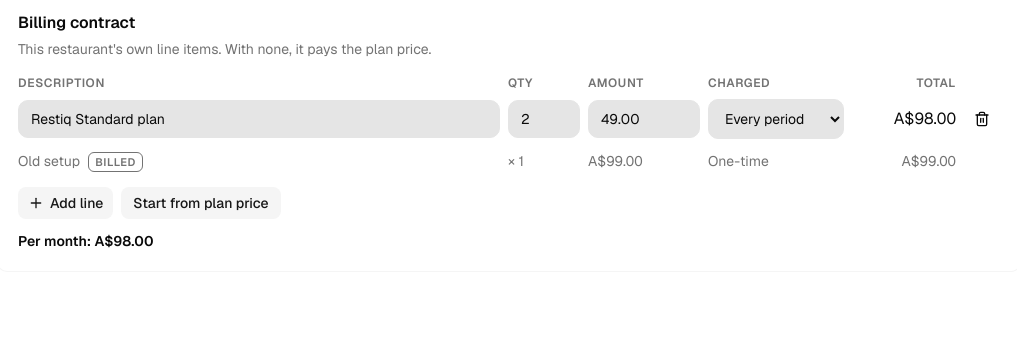
ContractCard › shows stripe_sync_failed inline and keeps Save available to retry
Check: the element with test id "contract-row-0" is shown, box [18, 99, 1000, 139]
Step 1. Click the button with test id "contract-remove-0" → [982, 119], box [964, 101, 1000, 137]
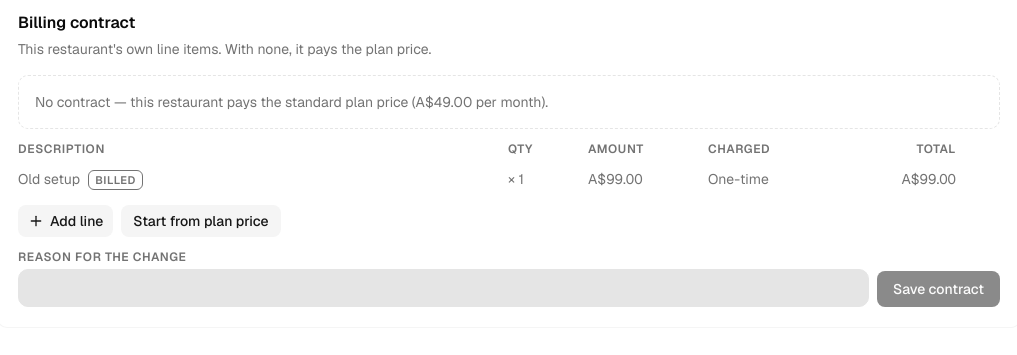
Step 2. Type "Back to plan" into the field with test id "contract-reason" → [443, 288], box [18, 269, 869, 307]
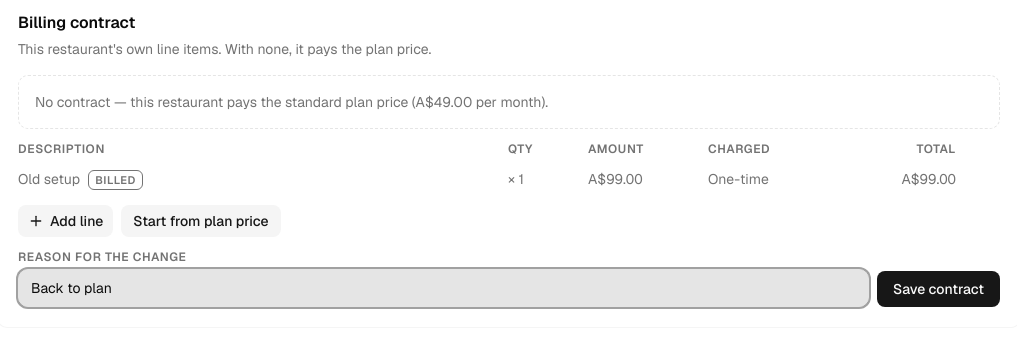
Step 3. Click the button with test id "contract-save" → [938, 289], box [877, 271, 1000, 307]
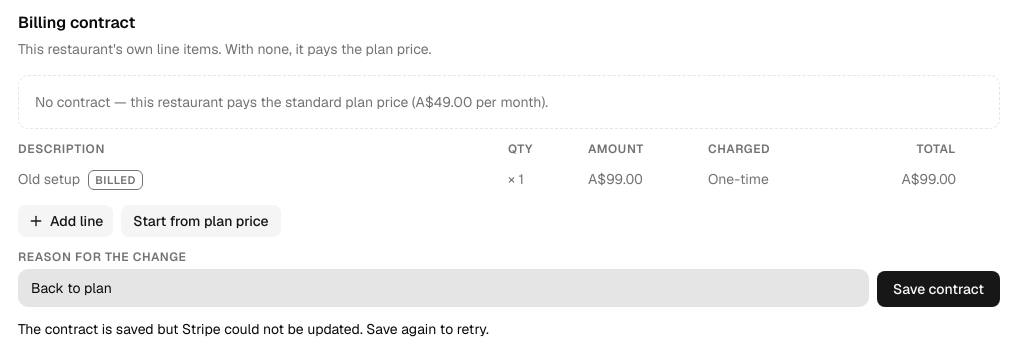
Check: the button with test id "contract-save" is enabled, box [877, 271, 1000, 307]
Check: the message with test id "contract-save-error" reads "The contract is saved but Stripe could not be updated. Save again to retry.", box [18, 320, 489, 338]
